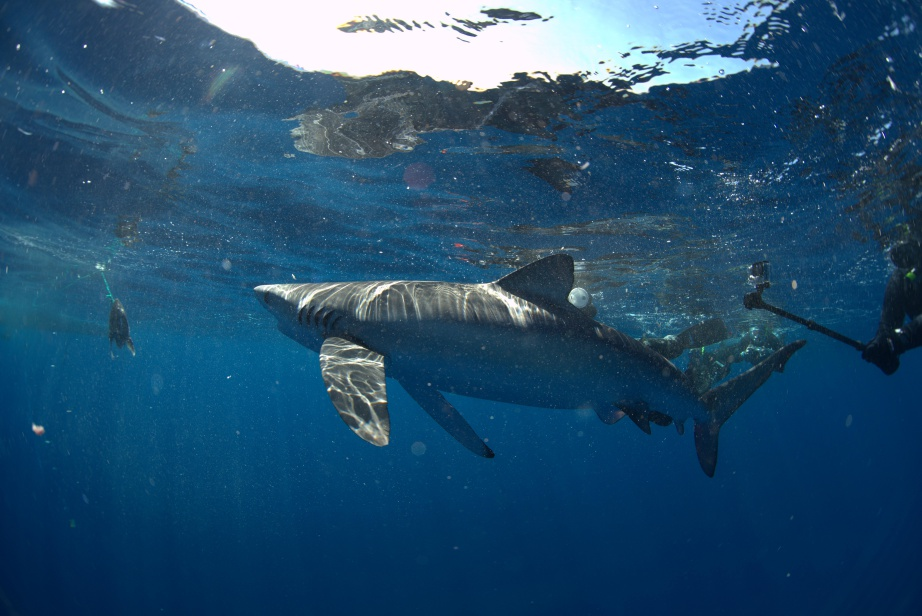Azul: (242, 237, 804, 478)
